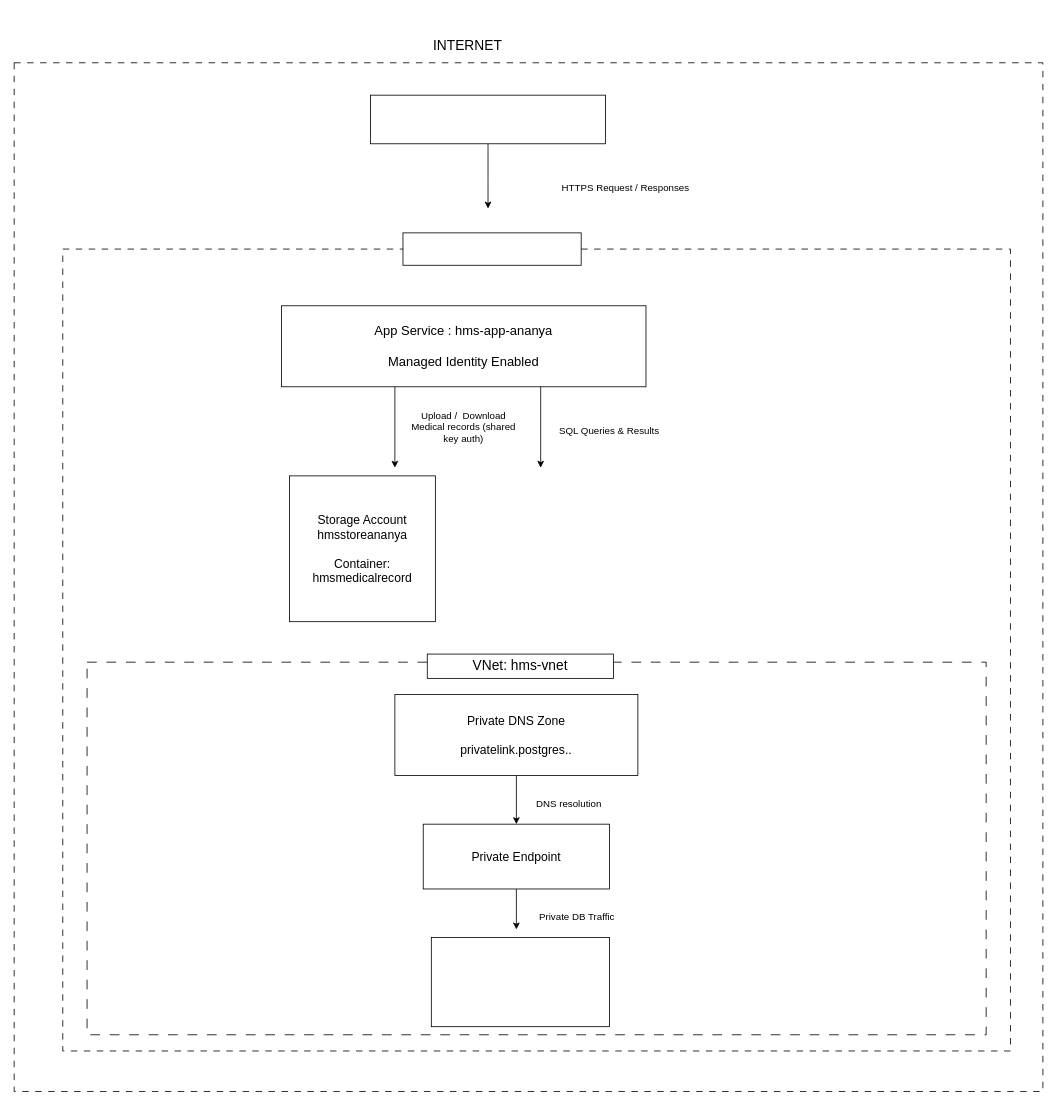
Some shapes in this 1057 by 1106 pixel diagram are drawn without their labels. Here are the shapes that lost their labels. From the top down, the centre of each, then its label:
[487,119]: Browser / User
[491,248]: Resource group: hms-rg
[520,982]: PostgresSQL Flexible Server hms-psql-ananya private access only
